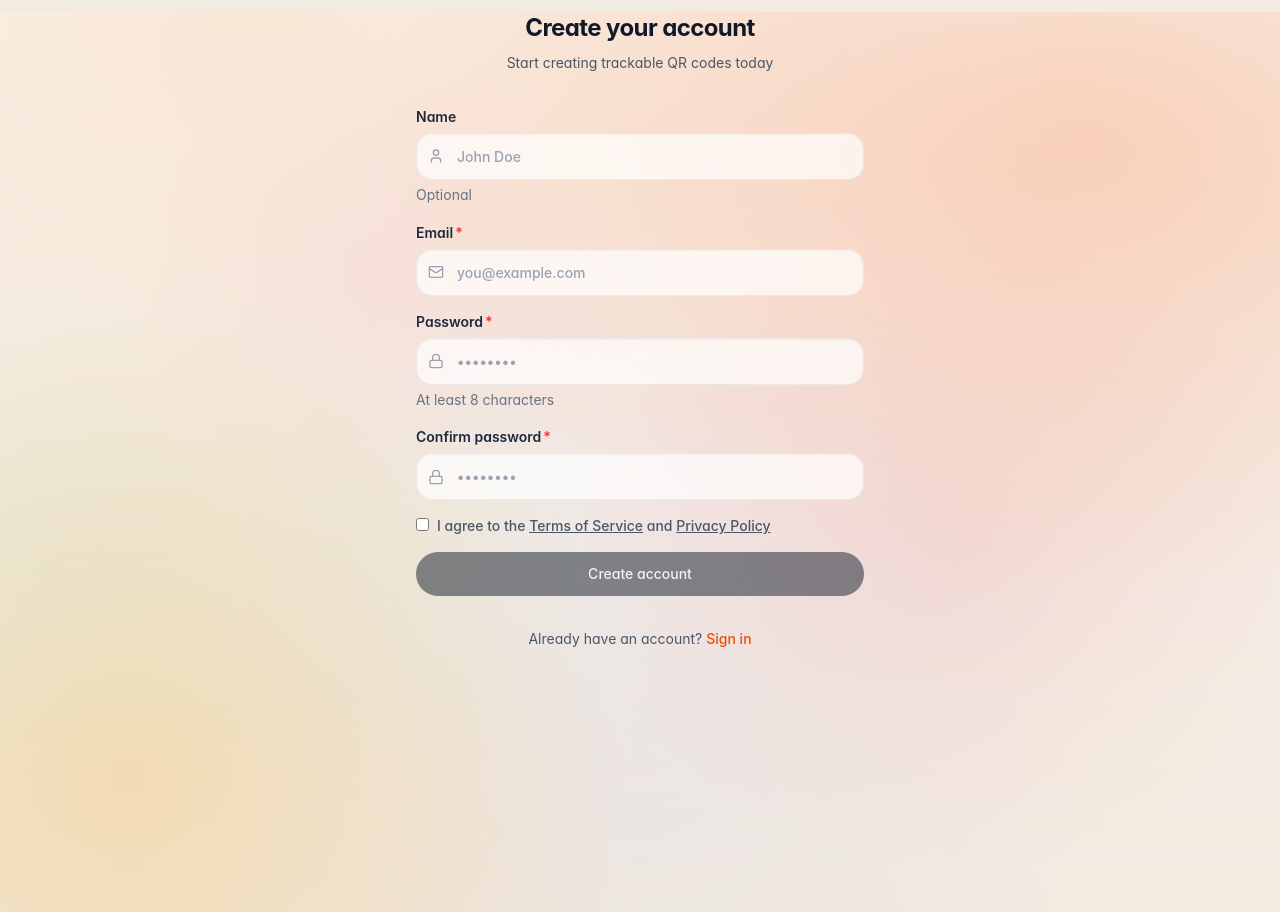
Test: SignUpForm › shows error for password mismatch
In the field labelled "Email*": (640,272) [416,248,864,296], type "john@example.com"
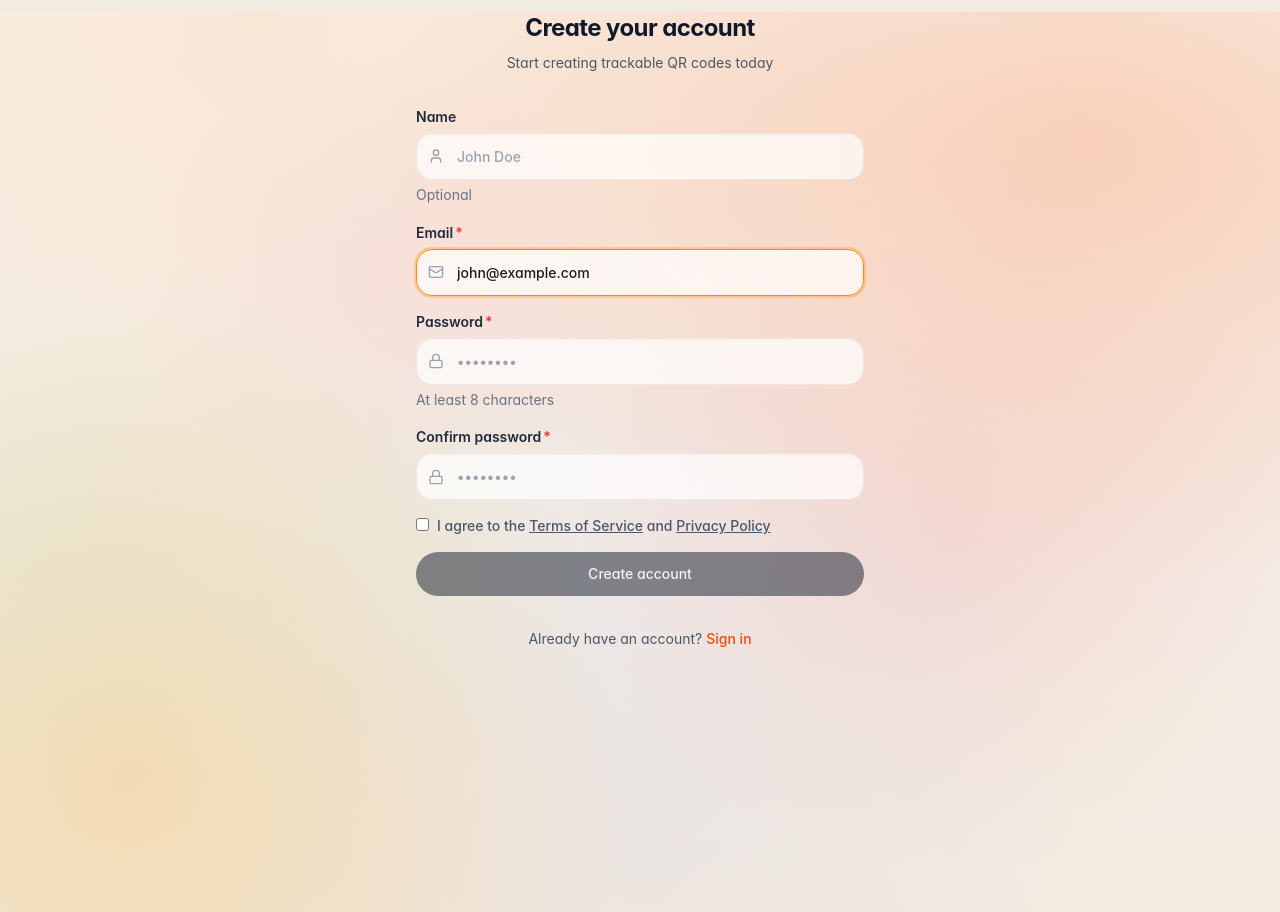
In the password field with placeholder "••••••••": (640,361) [416,338,864,384], type "password123"
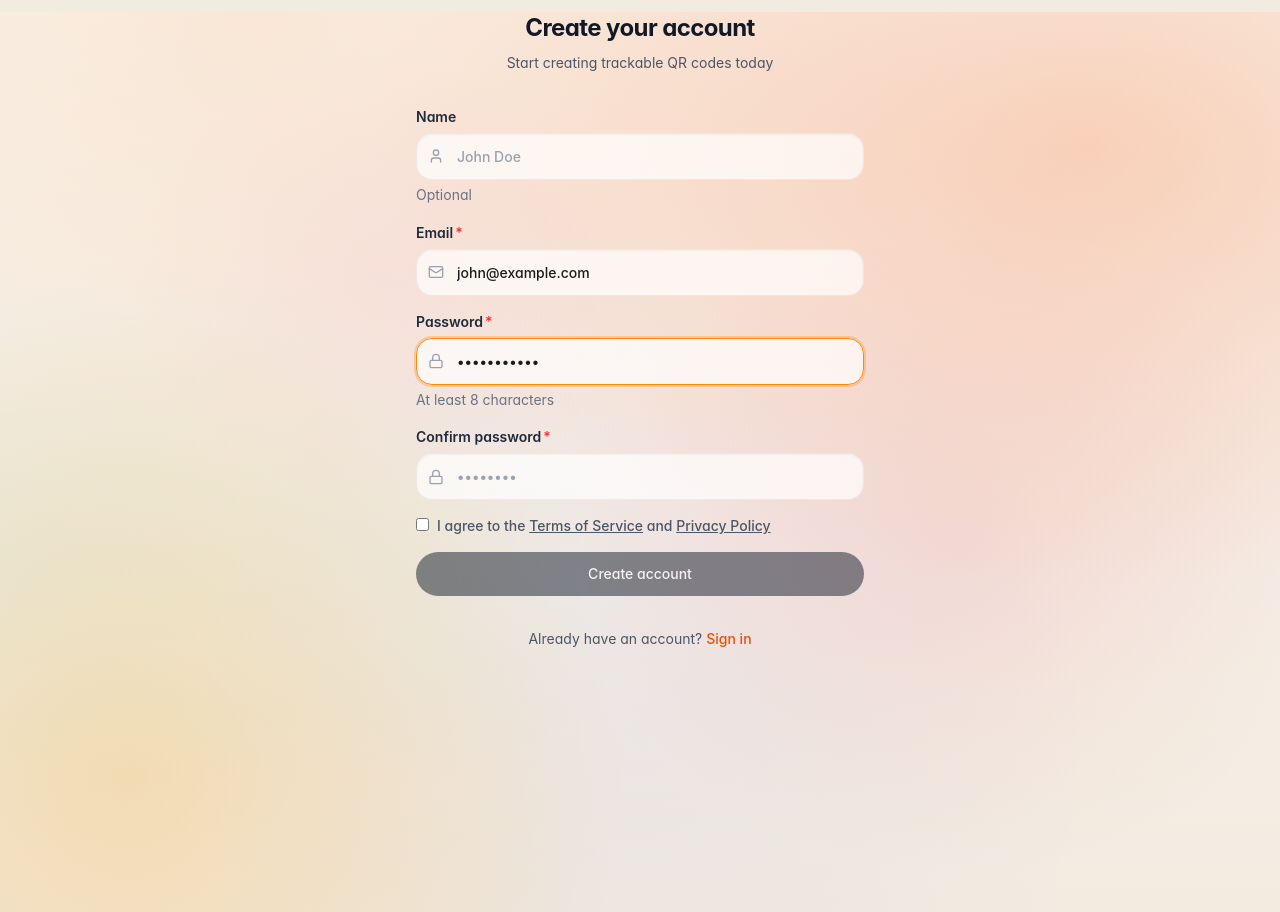
In the password field with placeholder "••••••••": (640,477) [416,453,864,500], type "differentpass"
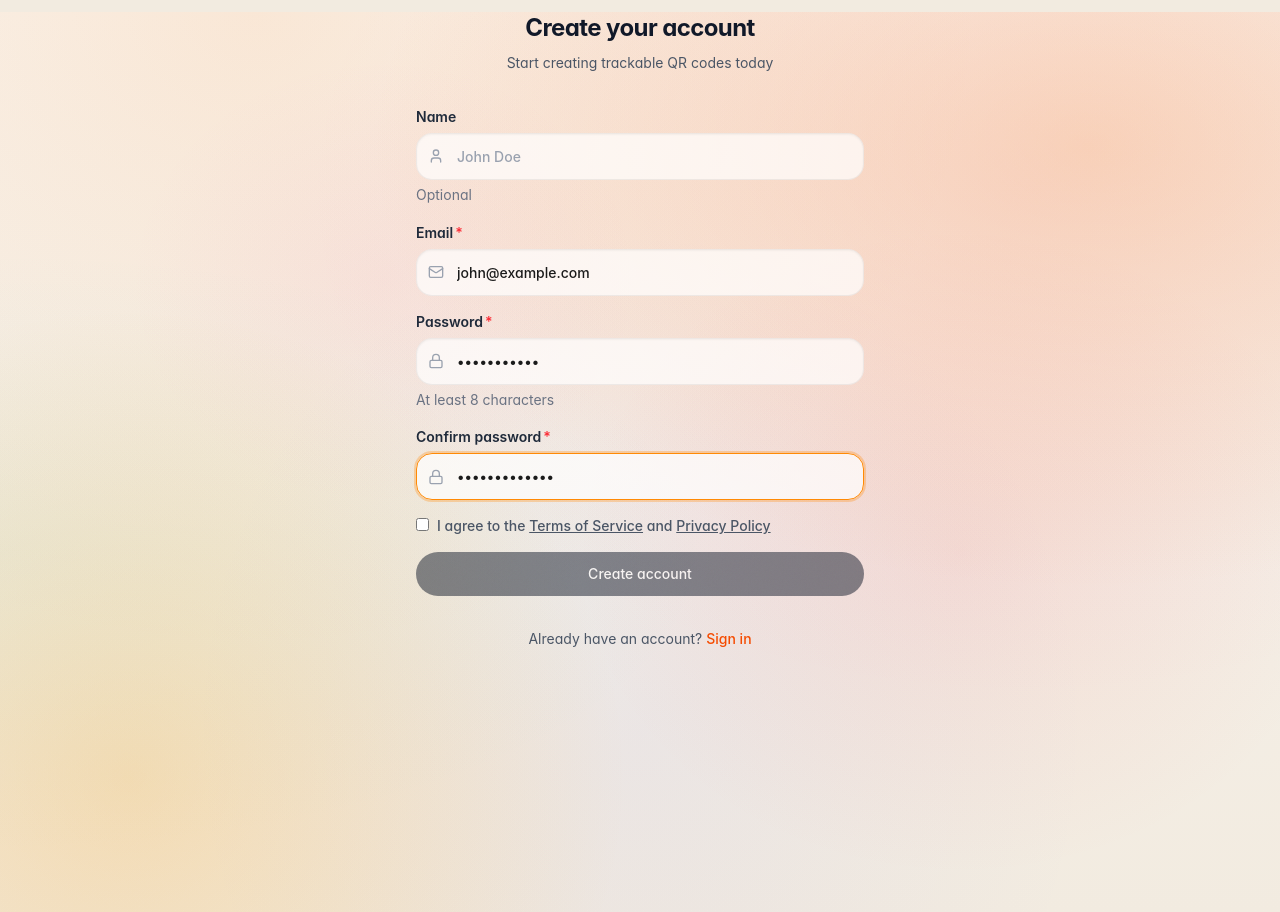
Click the checkbox: (422,525) [416,518,429,531]
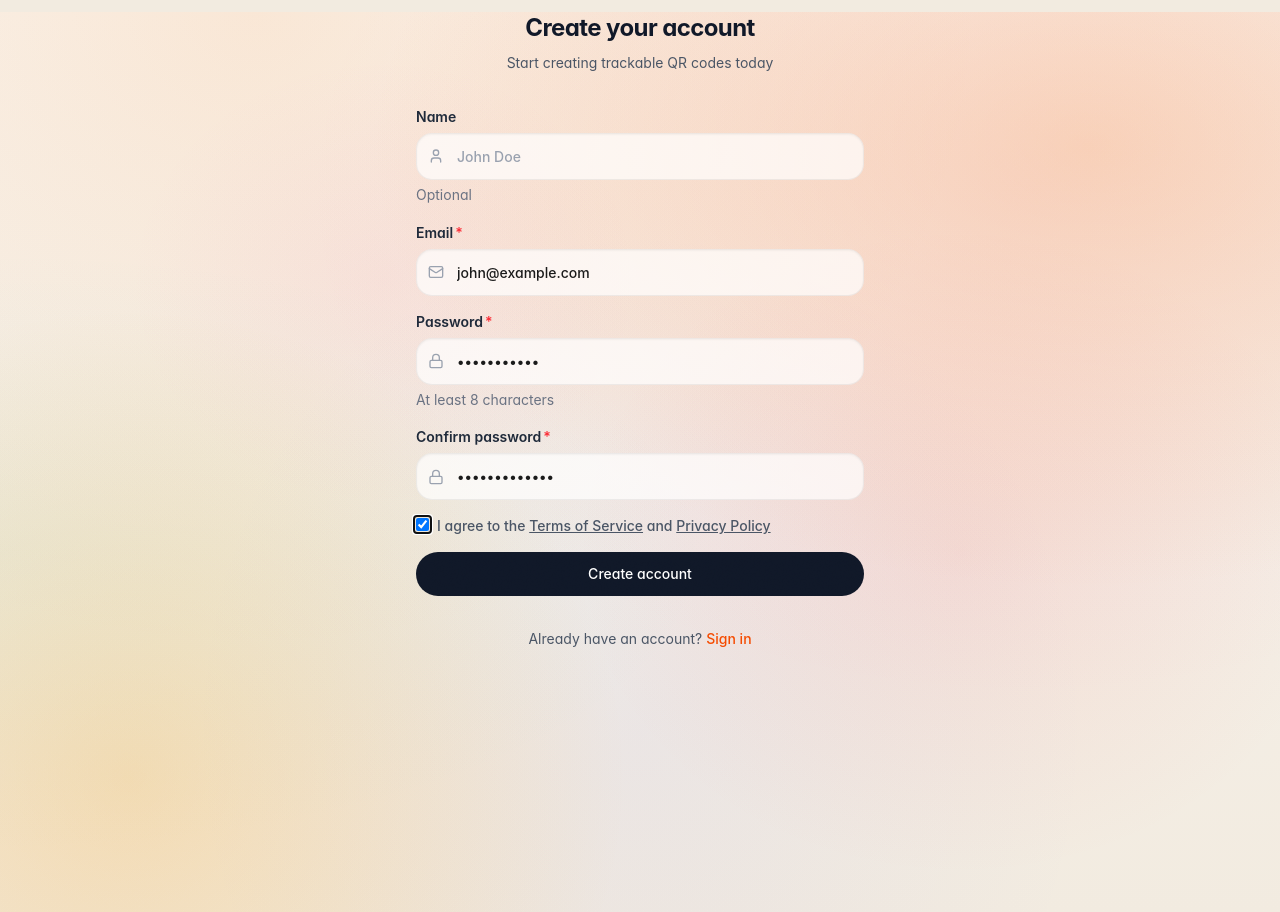
Click the button "Create account": (640,574) [416,552,864,596]
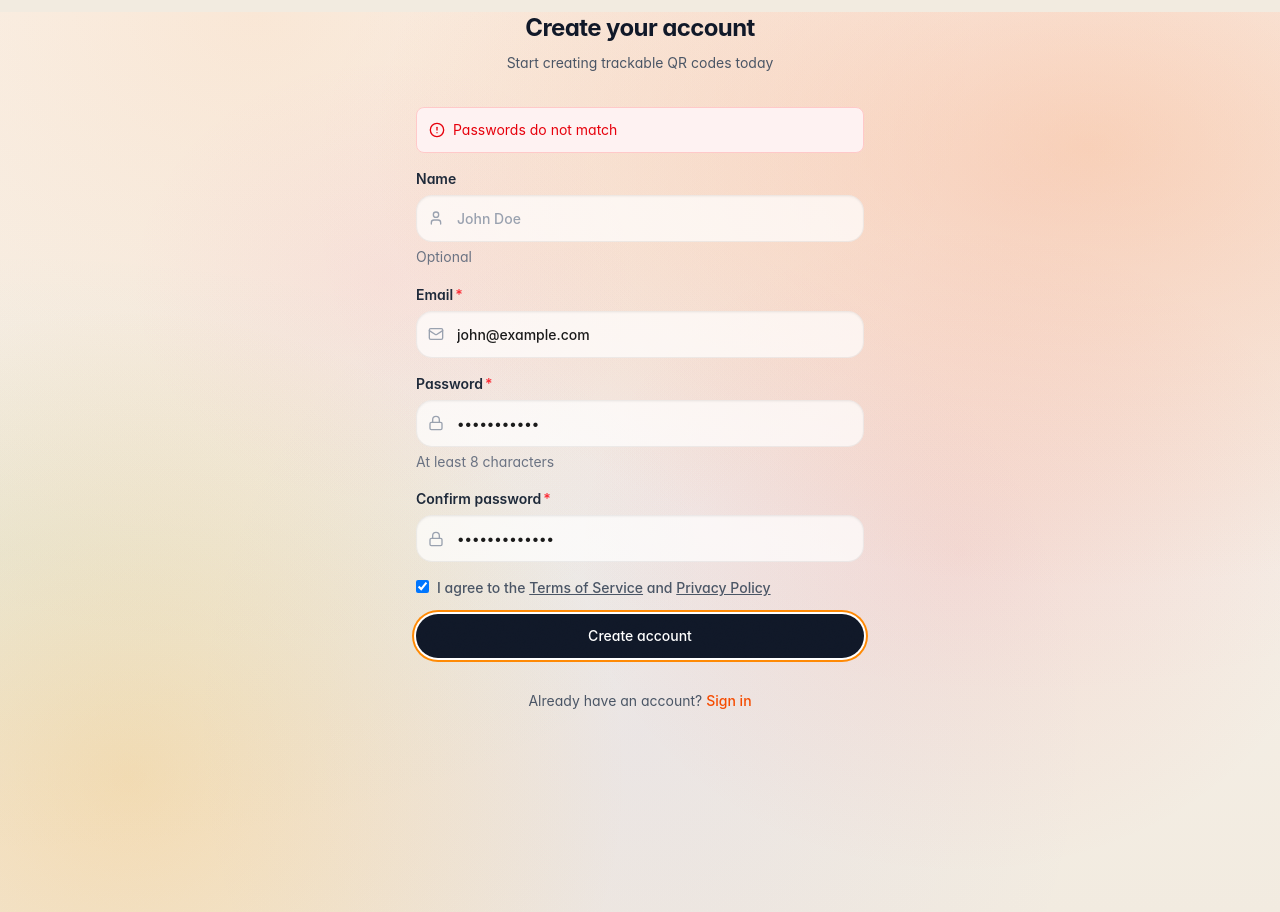
Check: the text "Passwords do not match" is shown, box [453,120,617,140]
